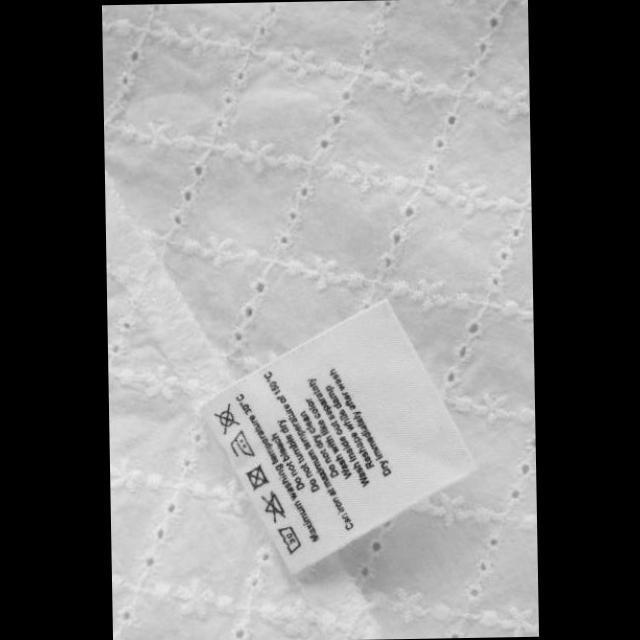30C: (276, 524, 302, 556)
DN_bleach: (258, 487, 288, 523)
DN_dry_clean: (212, 400, 244, 435)
DN_tumble_dry: (240, 460, 271, 492)
iron_medium: (227, 428, 256, 457)
